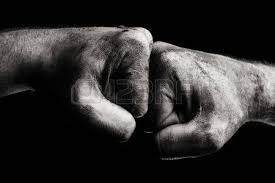fist: (158, 41, 243, 150), (76, 28, 151, 132)
